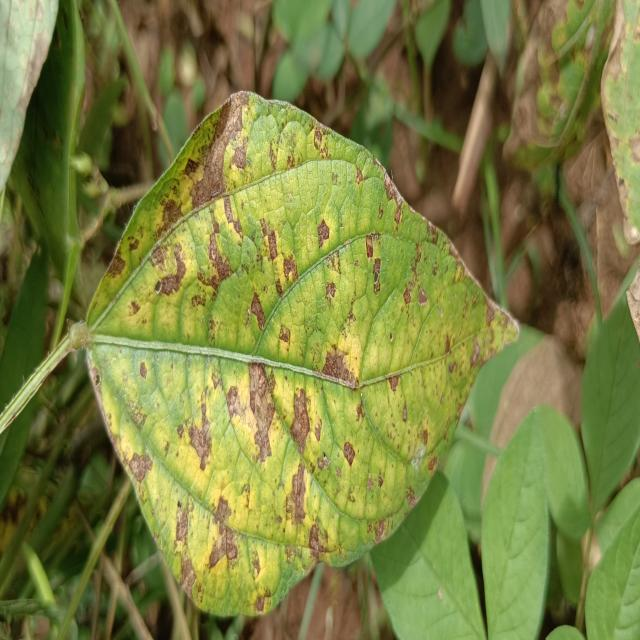Black gram_leaf spot: (81, 81, 520, 622), (486, 0, 614, 151), (604, 0, 640, 240)
